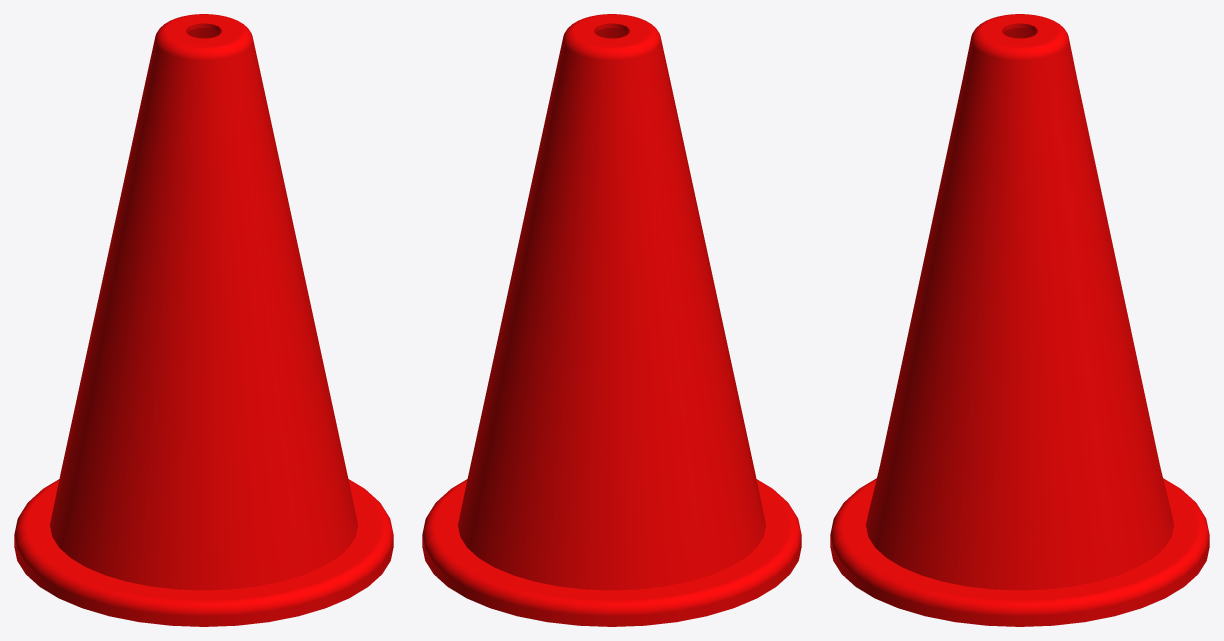
3 renders of one model, left to right at view 1: azimuth 30°, elevation 25°; view 2: azimuth 150°, elevation 25°; view 3: azimuth 270°, elevation 25°, orthographic.
Parts seen in each view (by area): view 1: Gemstone; view 2: Gemstone; view 3: Gemstone.
Boxes of the visible parts, left/top/right/bottom form: Gemstone: left=14, top=14, right=393, bottom=626; Gemstone: left=422, top=14, right=801, bottom=626; Gemstone: left=830, top=14, right=1209, bottom=626.
Size of the model in its own units: 0.2032 by 0.3048 by 0.2032.
